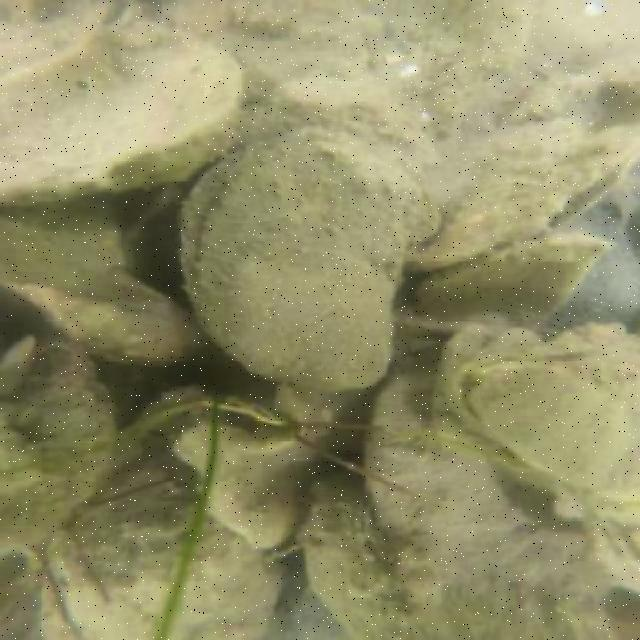Oyster-Closed: (360, 374, 640, 640), (169, 126, 439, 394), (42, 462, 281, 640), (0, 345, 119, 555), (302, 475, 434, 640)
Oyster-Open: (401, 114, 640, 274), (454, 348, 640, 493)
